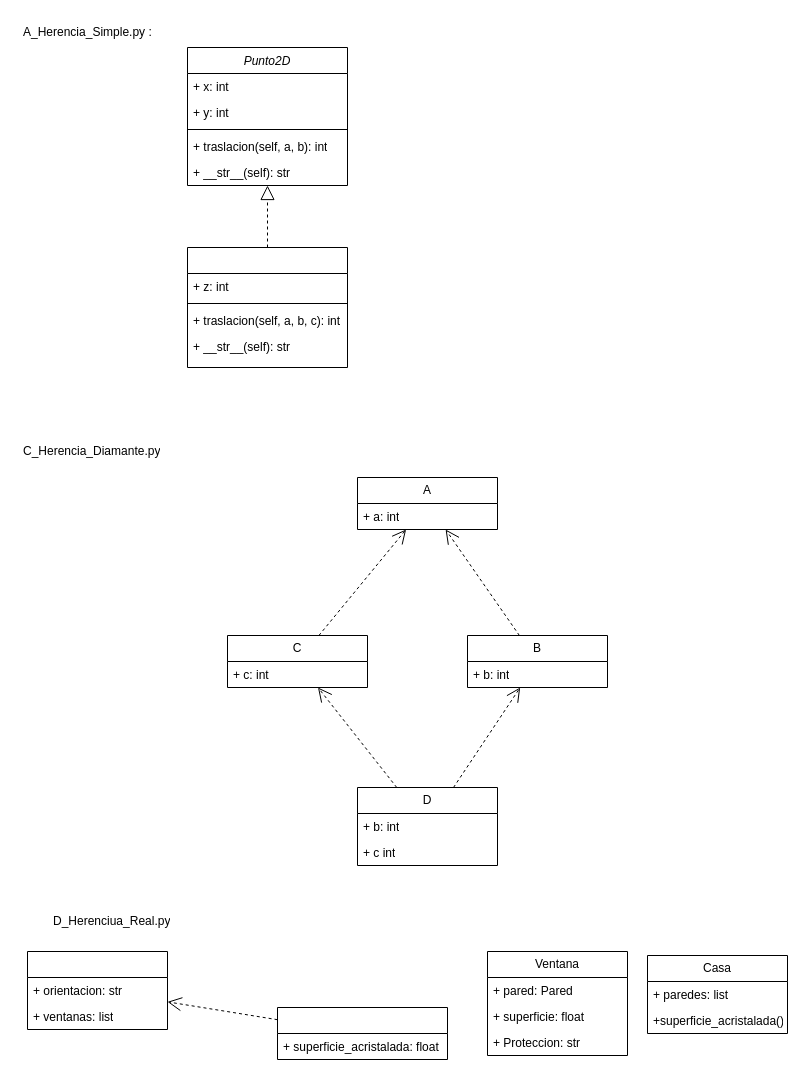
Image size: 807x1079. Some labels were removed from this diagram. The shapes that lost their labels are listed below. From the top down, each one's box as (x1, y1, x2, y2) in pixels, then its label:
(186, 246, 348, 368): Punto3D
(26, 950, 168, 1030): Pared
(276, 1006, 448, 1060): ParedCortina
